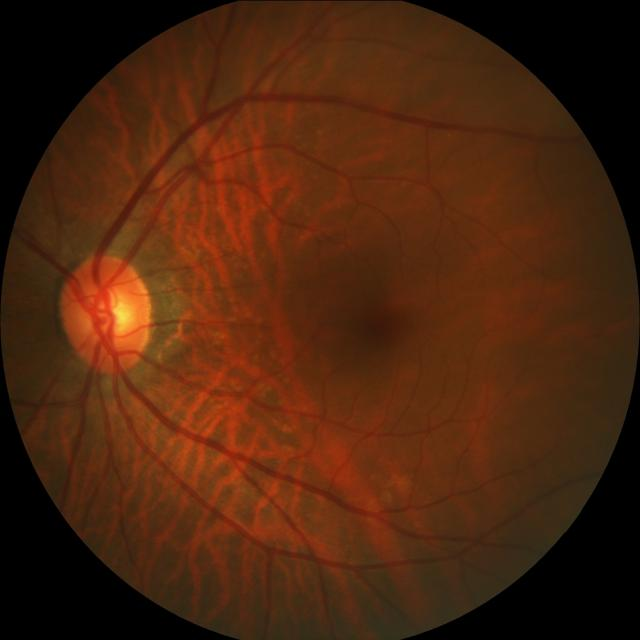OC: (83, 285, 134, 339)
OD: (59, 253, 152, 374)
